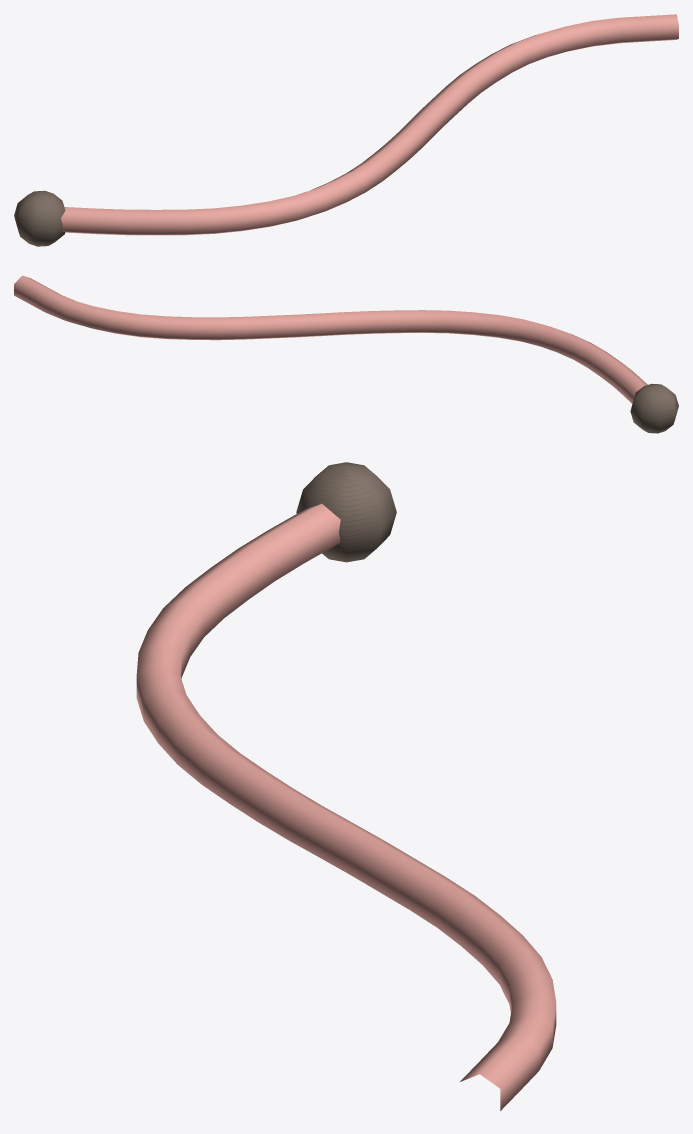
File: rat_tail.glb
The picture shows the model from 3 angles, top to bottom: view 1: azimuth 30°, elevation 25°; view 2: azimuth 150°, elevation 25°; view 3: azimuth 270°, elevation 25°; orthographic projection. The views are drawn at different scales.
Visible parts, largest first — view 1: rat_tail; view 2: rat_tail; view 3: rat_tail.
Part boxes in pixels (x1,y1,x2,y2): rat_tail: (14, 14, 678, 246); rat_tail: (14, 275, 678, 433); rat_tail: (136, 462, 556, 1110).
Size of the model in its own units: 0.2292 by 0.016 by 0.0667.
2 materials, 1 textured.
